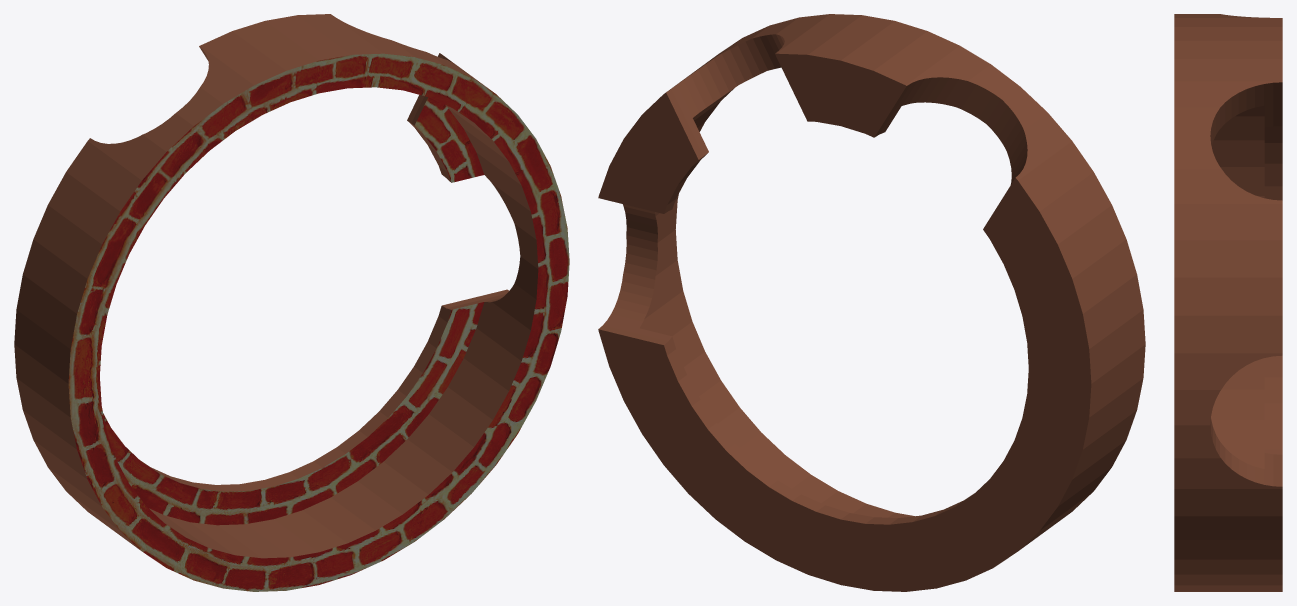
Rendered from pool_058.obj.
The picture shows the model from 3 angles, left to right: view 1: azimuth 30°, elevation 25°; view 2: azimuth 150°, elevation 25°; view 3: azimuth 270°, elevation 25°; orthographic projection.
Bounding box in the file's own units: 16 × 16 × 3.
